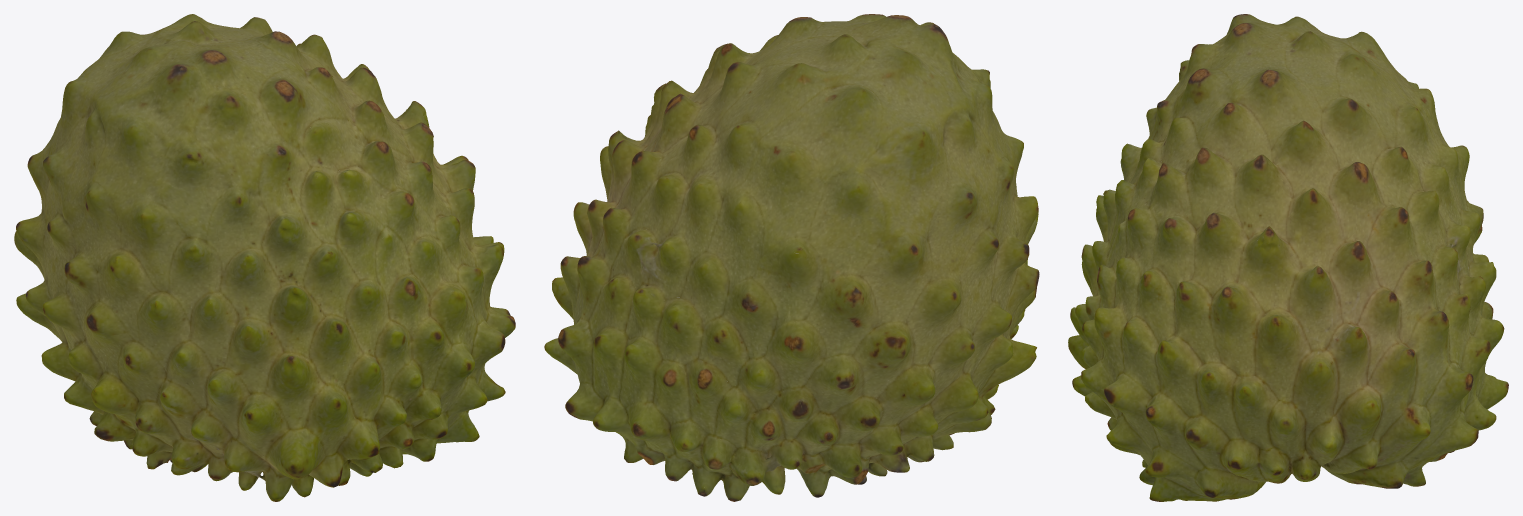
The model's file is custardapple.glb.
3 views of the same model, side by side, from view 1: azimuth 30°, elevation 25°; view 2: azimuth 150°, elevation 25°; view 3: azimuth 270°, elevation 25° (orthographic). The views are drawn at different scales.
Visible parts, largest first — view 1: Object_2, Object_3; view 2: Object_2, Object_3; view 3: Object_2, Object_3.
Boxes of the visible parts, box(x1,y1,x2,y2) form: Object_2: box(14, 14, 515, 501); Object_3: box(83, 29, 503, 462); Object_2: box(544, 14, 1039, 501); Object_3: box(562, 16, 935, 477); Object_2: box(1068, 14, 1508, 501); Object_3: box(1091, 68, 1466, 376).
Bounding box in the file's own units: 21.86 × 21.18 × 21.22.
1 material, 1 textured.
